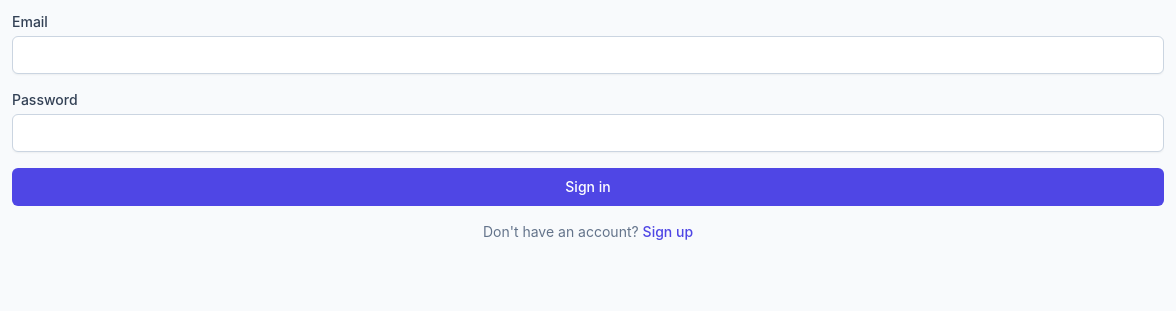
Test: LoginForm › surfaces a backend error without a generic fallback message
Type "jane@example.com" into the field labelled "Email" at (588, 55), box left=12, top=36, right=1164, bottom=74
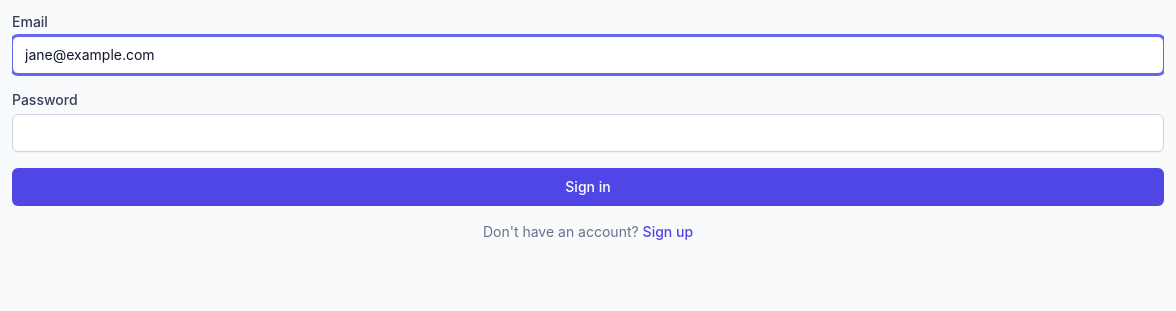
Type "wrong-password" into the password field labelled "Password" at (588, 133), box left=12, top=114, right=1164, bottom=152
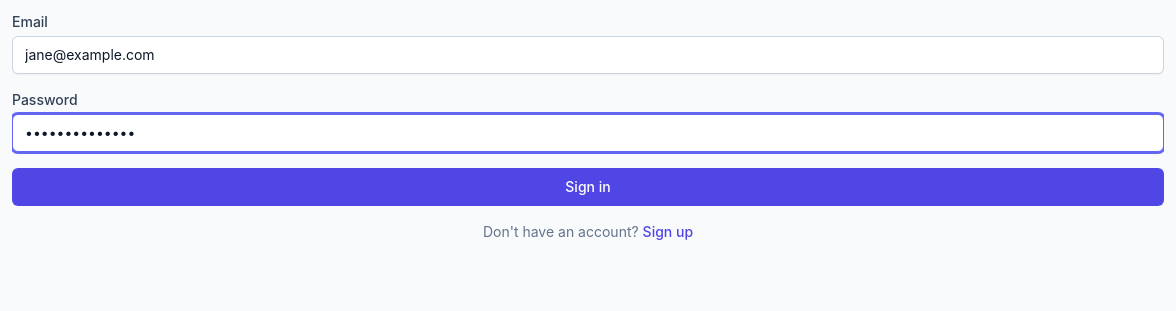
Click the button "Sign in" at (588, 187), box left=12, top=168, right=1164, bottom=206
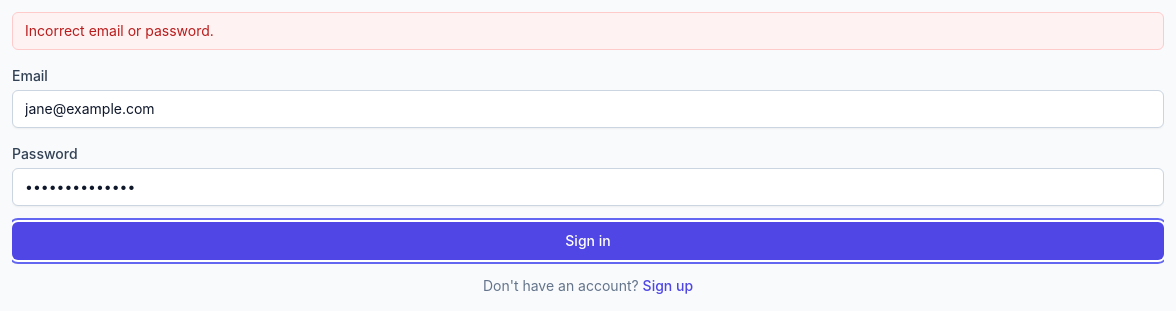
Expected: the text "Incorrect email or password." is shown, left=12, top=12, right=1164, bottom=50
